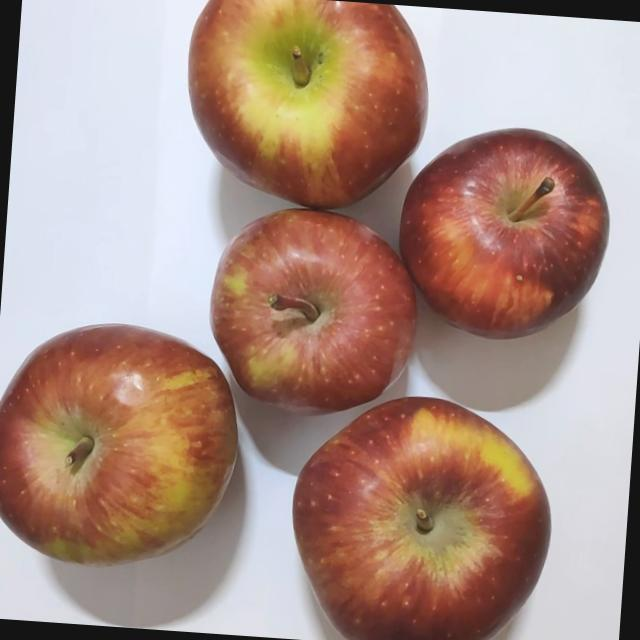apple: (268, 385, 552, 640), (0, 310, 248, 584), (164, 0, 436, 228), (184, 198, 426, 435), (378, 118, 612, 362)
